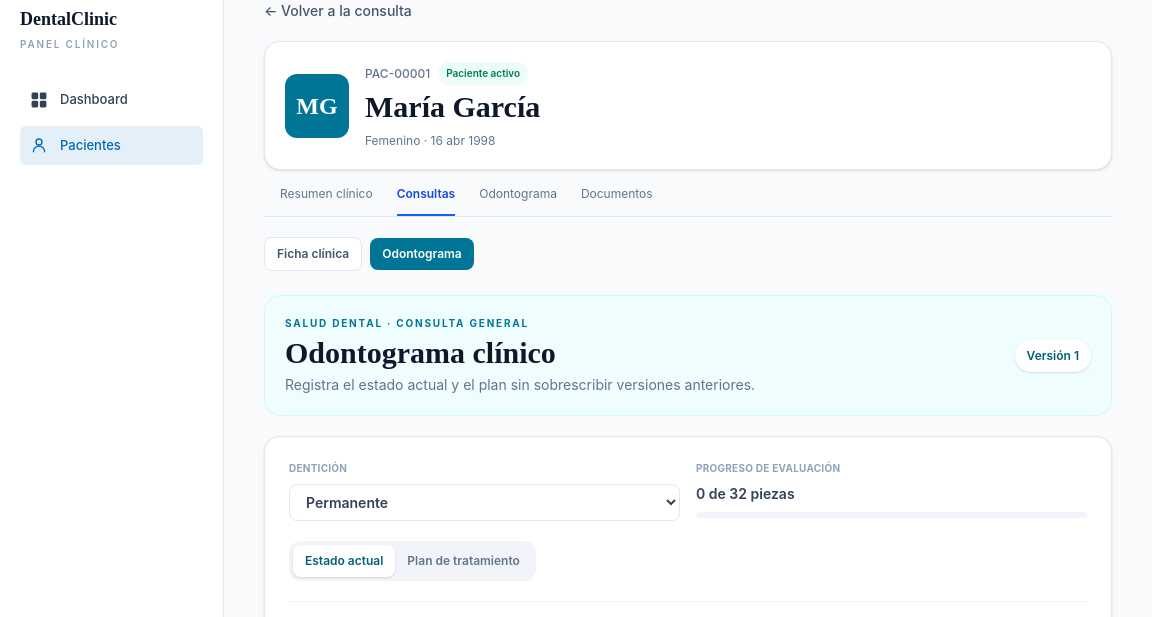
it: versioned odontograms › renders the structured plan as a read-only overlay and preserves duplicate details
Expected: the heading "Odontograma clínico" is shown, x1=285 y1=336 x2=556 y2=369
What coordinates should you click on to do the following:
click the button "Plan de tratamiento"
I would click on:
 (464, 561)
Its box is x1=395 y1=545 x2=532 y2=577.
(page scrolled)
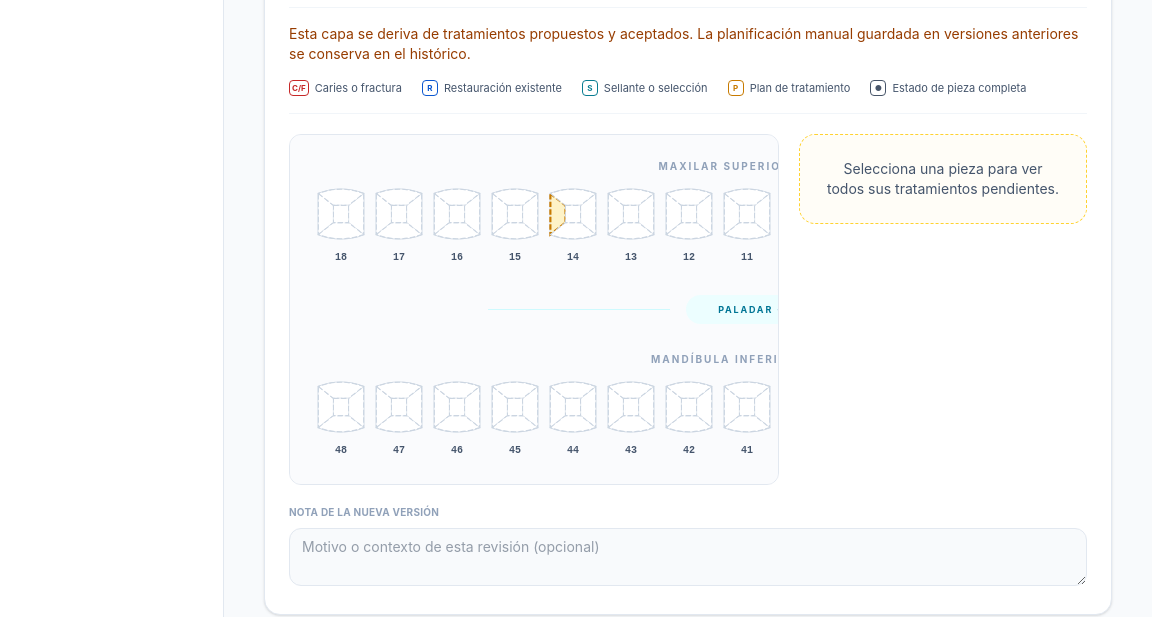
What coordinates should you click on to do the following:
click the button "14"
I would click on:
 (573, 257)
Its box is x1=561 y1=248 x2=585 y2=266.
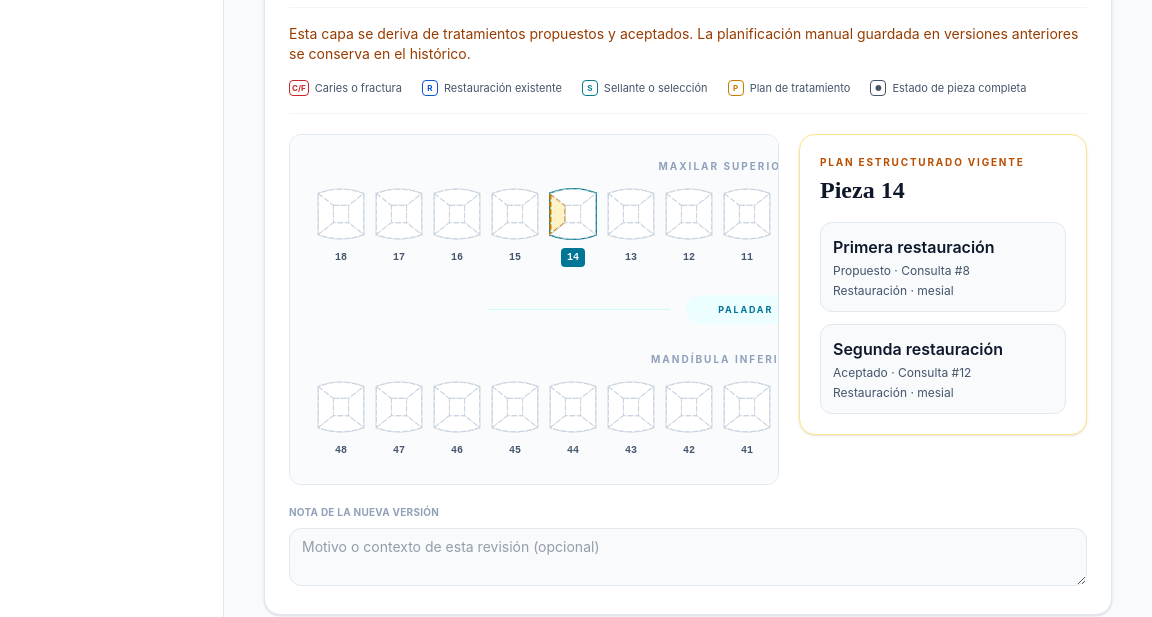
Expected: the text "Primera restauración" is shown, x1=833 y1=236 x2=995 y2=256
Expected: the text "Segunda restauración" is shown, x1=833 y1=338 x2=1003 y2=358
